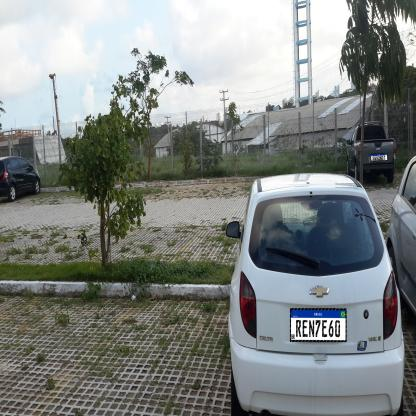PlacaM: (290, 308, 347, 342), (371, 153, 387, 162)
